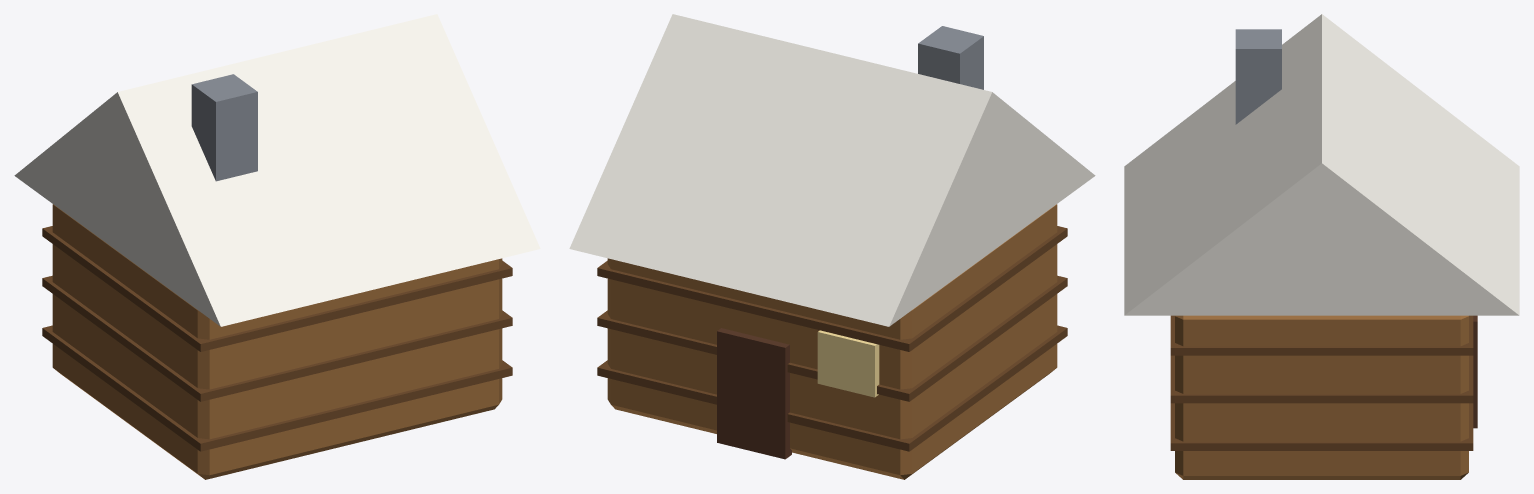
File: house_cabin.glb
3 views of the same model, side by side, from view 1: azimuth 30°, elevation 25°; view 2: azimuth 150°, elevation 25°; view 3: azimuth 270°, elevation 25° (orthographic). The views are drawn at different scales.
Parts seen in each view (by area): view 1: house_cabin; view 2: house_cabin; view 3: house_cabin.
Boxes of the visible parts, left/top/right/bottom form: house_cabin: left=14, top=14, right=540, bottom=479; house_cabin: left=569, top=14, right=1095, bottom=479; house_cabin: left=1124, top=14, right=1519, bottom=479.
Bounding box in the file's own units: 1.68 × 1.75 × 1.88.
Materials: 1 (1 with a texture image).
